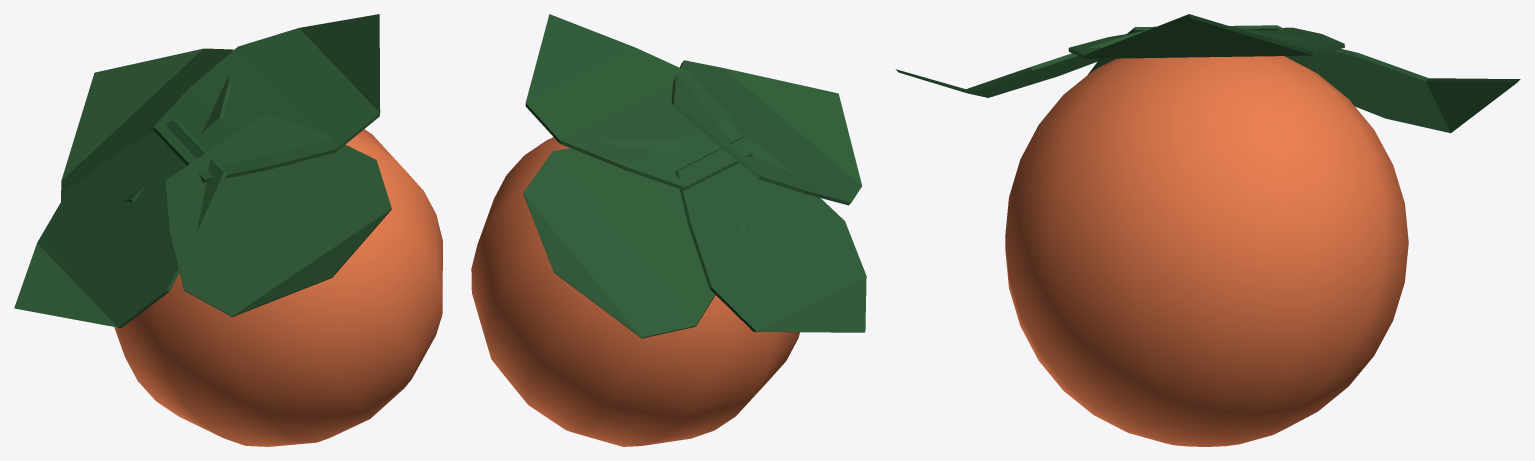
File: BERRY.fbx
The picture shows the model from 3 angles, left to right: view 1: azimuth 30°, elevation 25°; view 2: azimuth 150°, elevation 25°; view 3: azimuth 270°, elevation 25°; orthographic projection. The views are drawn at different scales.
Parts seen in each view (by area): view 1: Sphere; view 2: Sphere; view 3: Sphere.
Part boxes in pixels (x1,y1,x2,y2): Sphere: [14, 14, 442, 446]; Sphere: [471, 14, 866, 446]; Sphere: [895, 14, 1520, 446].
Bounding box in the file's own units: 973 × 939 × 1130.
